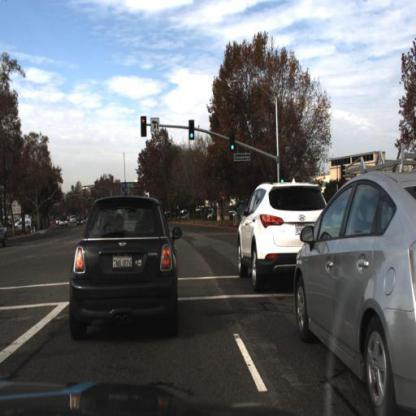car: (292, 146, 414, 413), (57, 187, 192, 359), (235, 176, 326, 296), (0, 204, 12, 258), (12, 216, 34, 241)
trafficLight-Green: (226, 132, 240, 163), (187, 117, 198, 149), (228, 129, 237, 152), (278, 166, 286, 187)
trafficLight-RedLeft: (137, 115, 148, 146)
